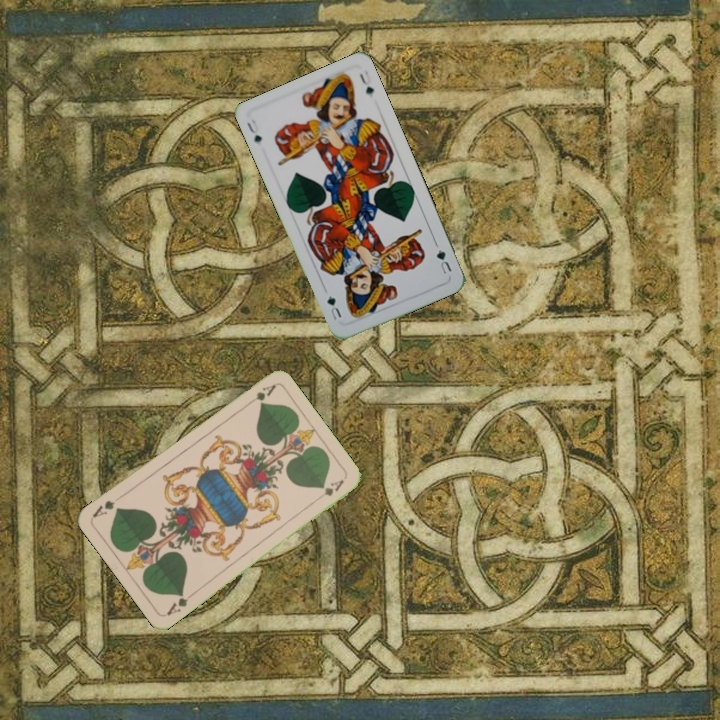GA: (242, 380, 278, 409), (163, 588, 197, 618)
GU: (432, 245, 454, 277), (243, 115, 265, 147)
